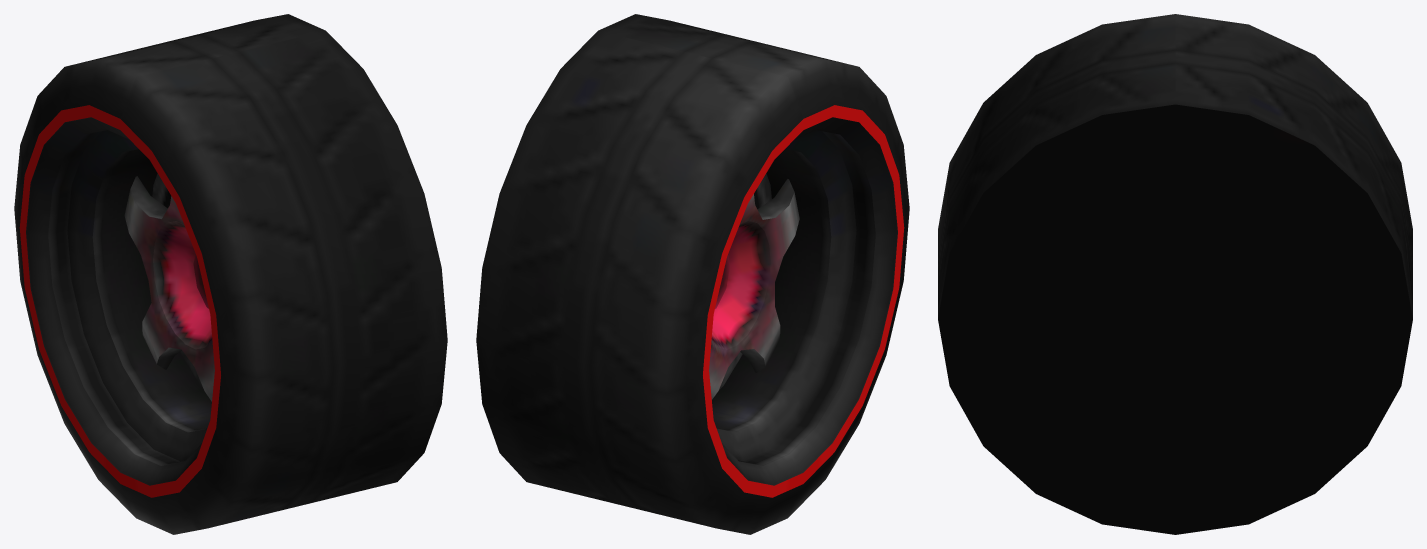
The picture shows the model from 3 angles, left to right: view 1: azimuth 30°, elevation 25°; view 2: azimuth 150°, elevation 25°; view 3: azimuth 270°, elevation 25°; orthographic projection. The views are drawn at different scales.
Visible parts, largest first — view 1: r_0139_rr; view 2: r_0139_rr; view 3: r_0139_rr.
Part boxes in pixels (<box>): r_0139_rr: <box>14,14,447,534</box>; r_0139_rr: <box>476,14,909,534</box>; r_0139_rr: <box>938,14,1412,534</box>.
Size of the model in its own units: 19.91 by 40.82 by 40.82.
Materials: 1 (1 with a texture image).
